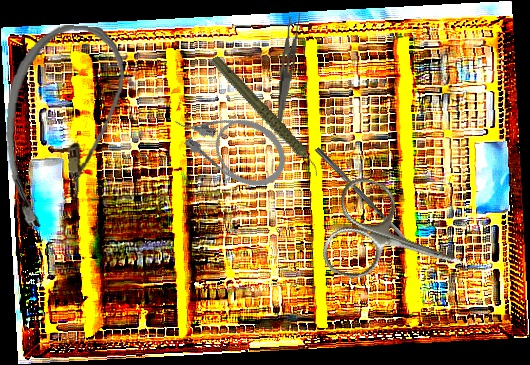Cannula: (0, 21, 127, 232), (164, 87, 299, 199)
Dressing Forceps: (276, 12, 303, 122)
Handpiece: (209, 39, 322, 195)
Iris Scissors: (316, 172, 479, 311)
Surgical Spoon: (314, 146, 416, 252)
